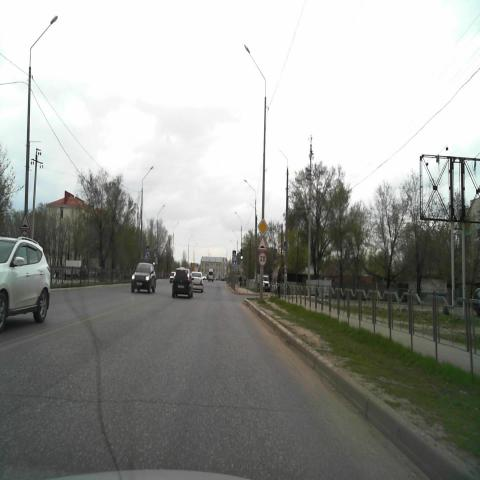1_17: (258, 237, 267, 252)
